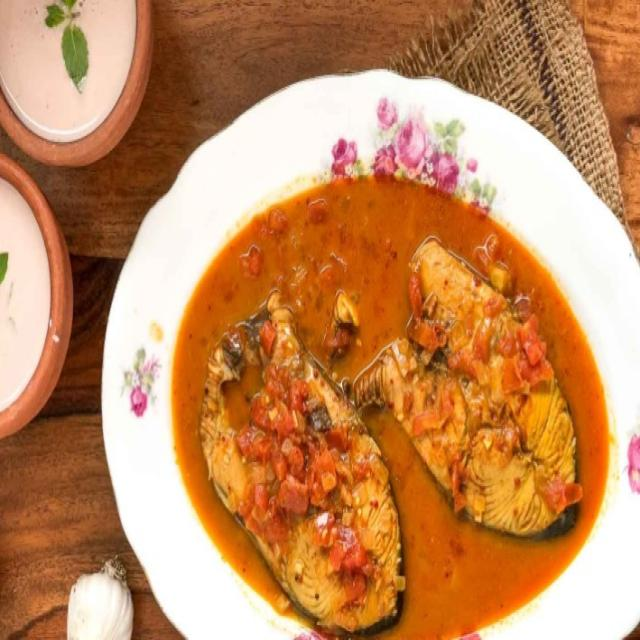FISH CURRY: (172, 184, 612, 639)
